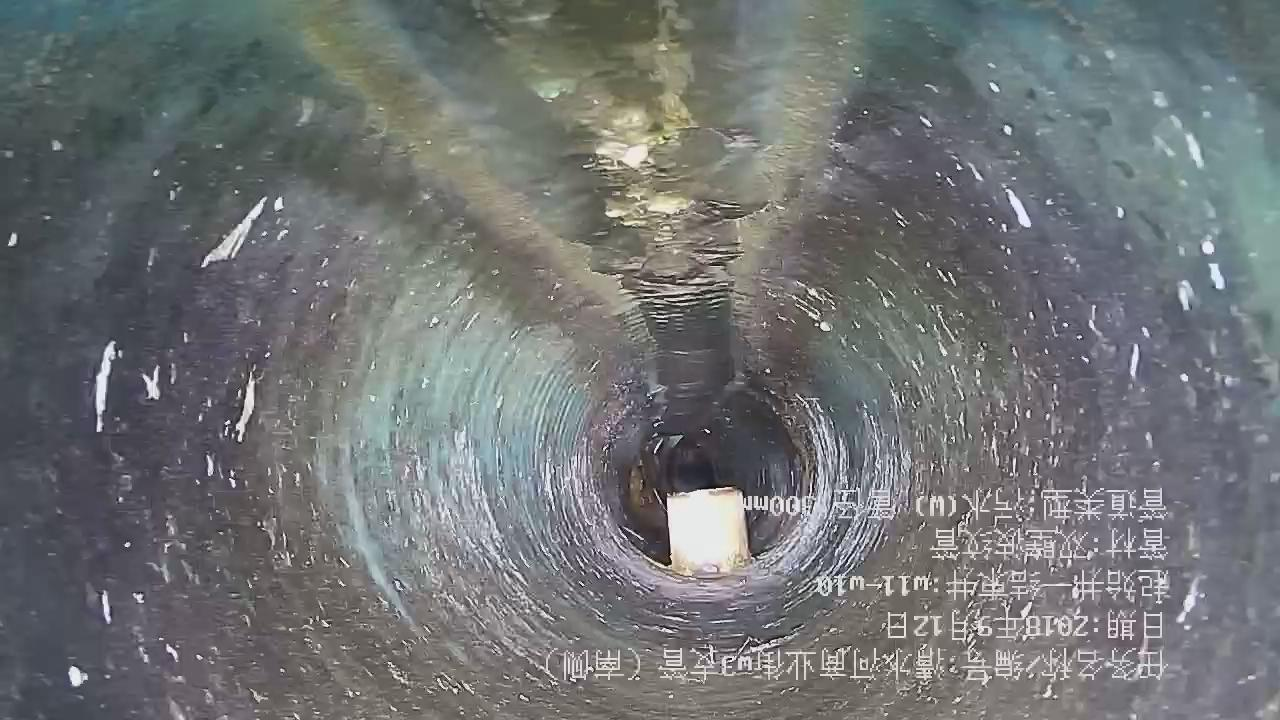CJ: (471, 1, 761, 405)
ZGAJ: (667, 487, 751, 577)
